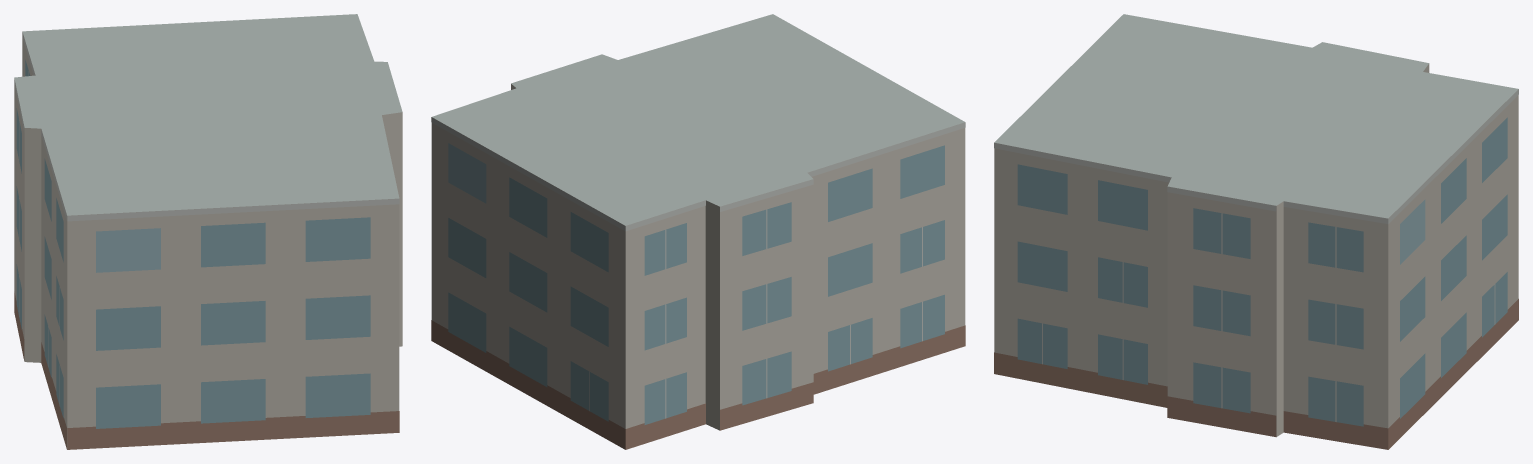
Rendered from survey-upis-32638590.glb.
The picture shows the model from 3 angles, left to right: view 1: azimuth 30°, elevation 25°; view 2: azimuth 150°, elevation 25°; view 3: azimuth 270°, elevation 25°; orthographic projection. The views are drawn at different scales.
Visible parts, largest first — view 1: survey-upis-32638590.tmp; view 2: survey-upis-32638590.tmp; view 3: survey-upis-32638590.tmp.
Part boxes in pixels (<box>): survey-upis-32638590.tmp: <box>14,14,402,449</box>; survey-upis-32638590.tmp: <box>431,14,965,449</box>; survey-upis-32638590.tmp: <box>994,14,1518,449</box>.
Bounding box in the file's own units: 18.85 × 9.94 × 20.43.
